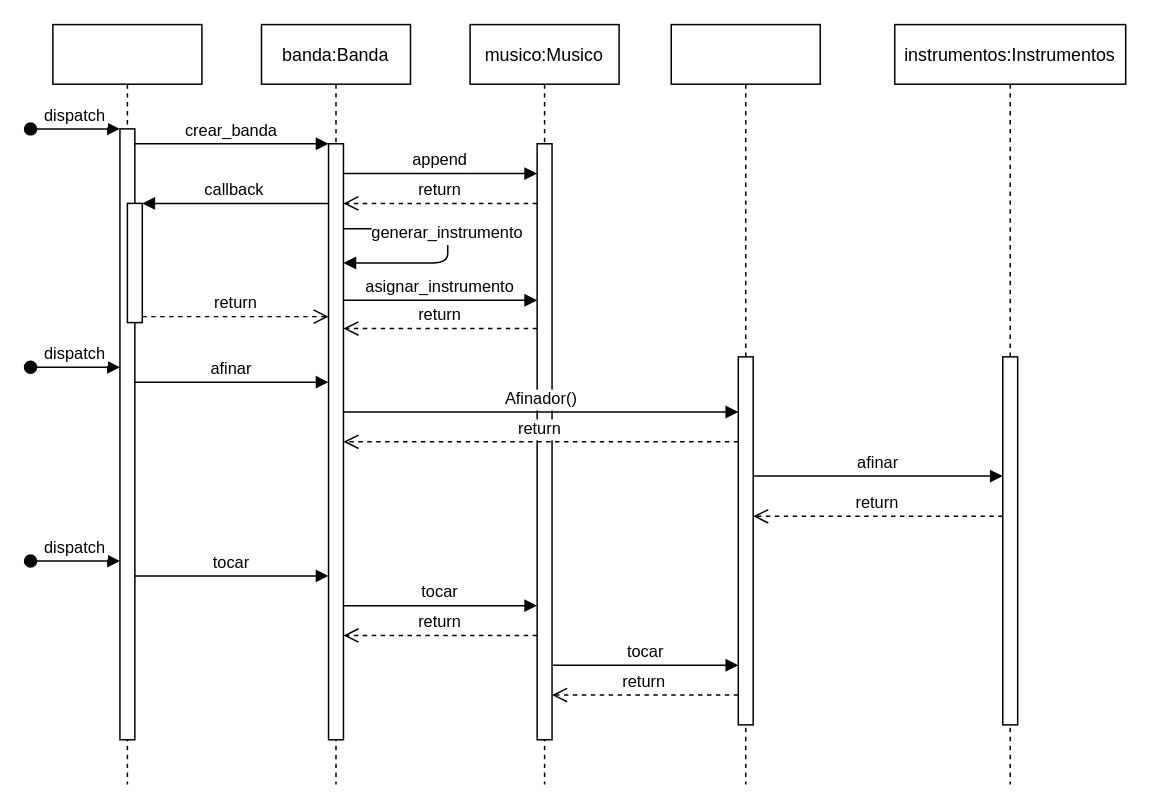
The diagram is 1150 pixels wide and 809 high, and some of its shapes have lost their labels. Each missing label, with the box of its shape:
afinador:Afinador: (670, 23, 820, 784)
self:Principal: (51, 23, 202, 784)
